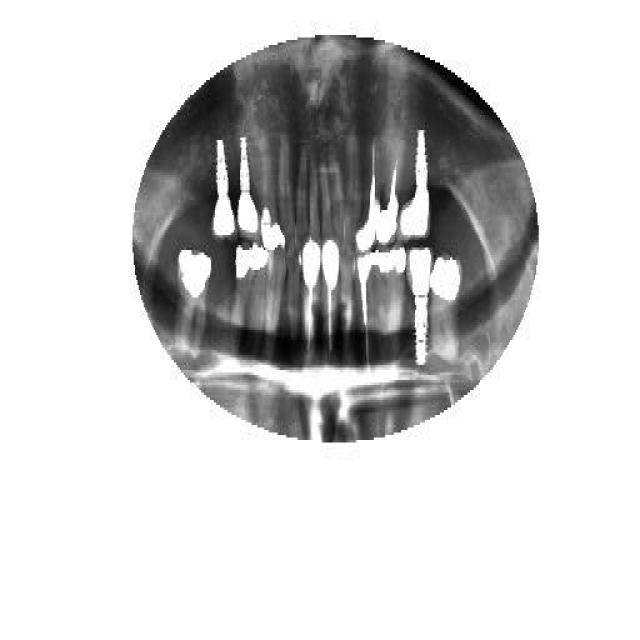Fillings: (175, 248, 211, 358), (428, 253, 462, 365), (257, 135, 285, 250), (249, 242, 270, 338), (388, 245, 407, 343), (230, 245, 251, 333), (371, 245, 389, 340)
Implant: (397, 130, 432, 242), (352, 138, 377, 258), (375, 138, 400, 248), (353, 245, 375, 370), (236, 135, 262, 240), (409, 245, 431, 367), (213, 140, 235, 240), (322, 243, 340, 355), (305, 240, 320, 352)
